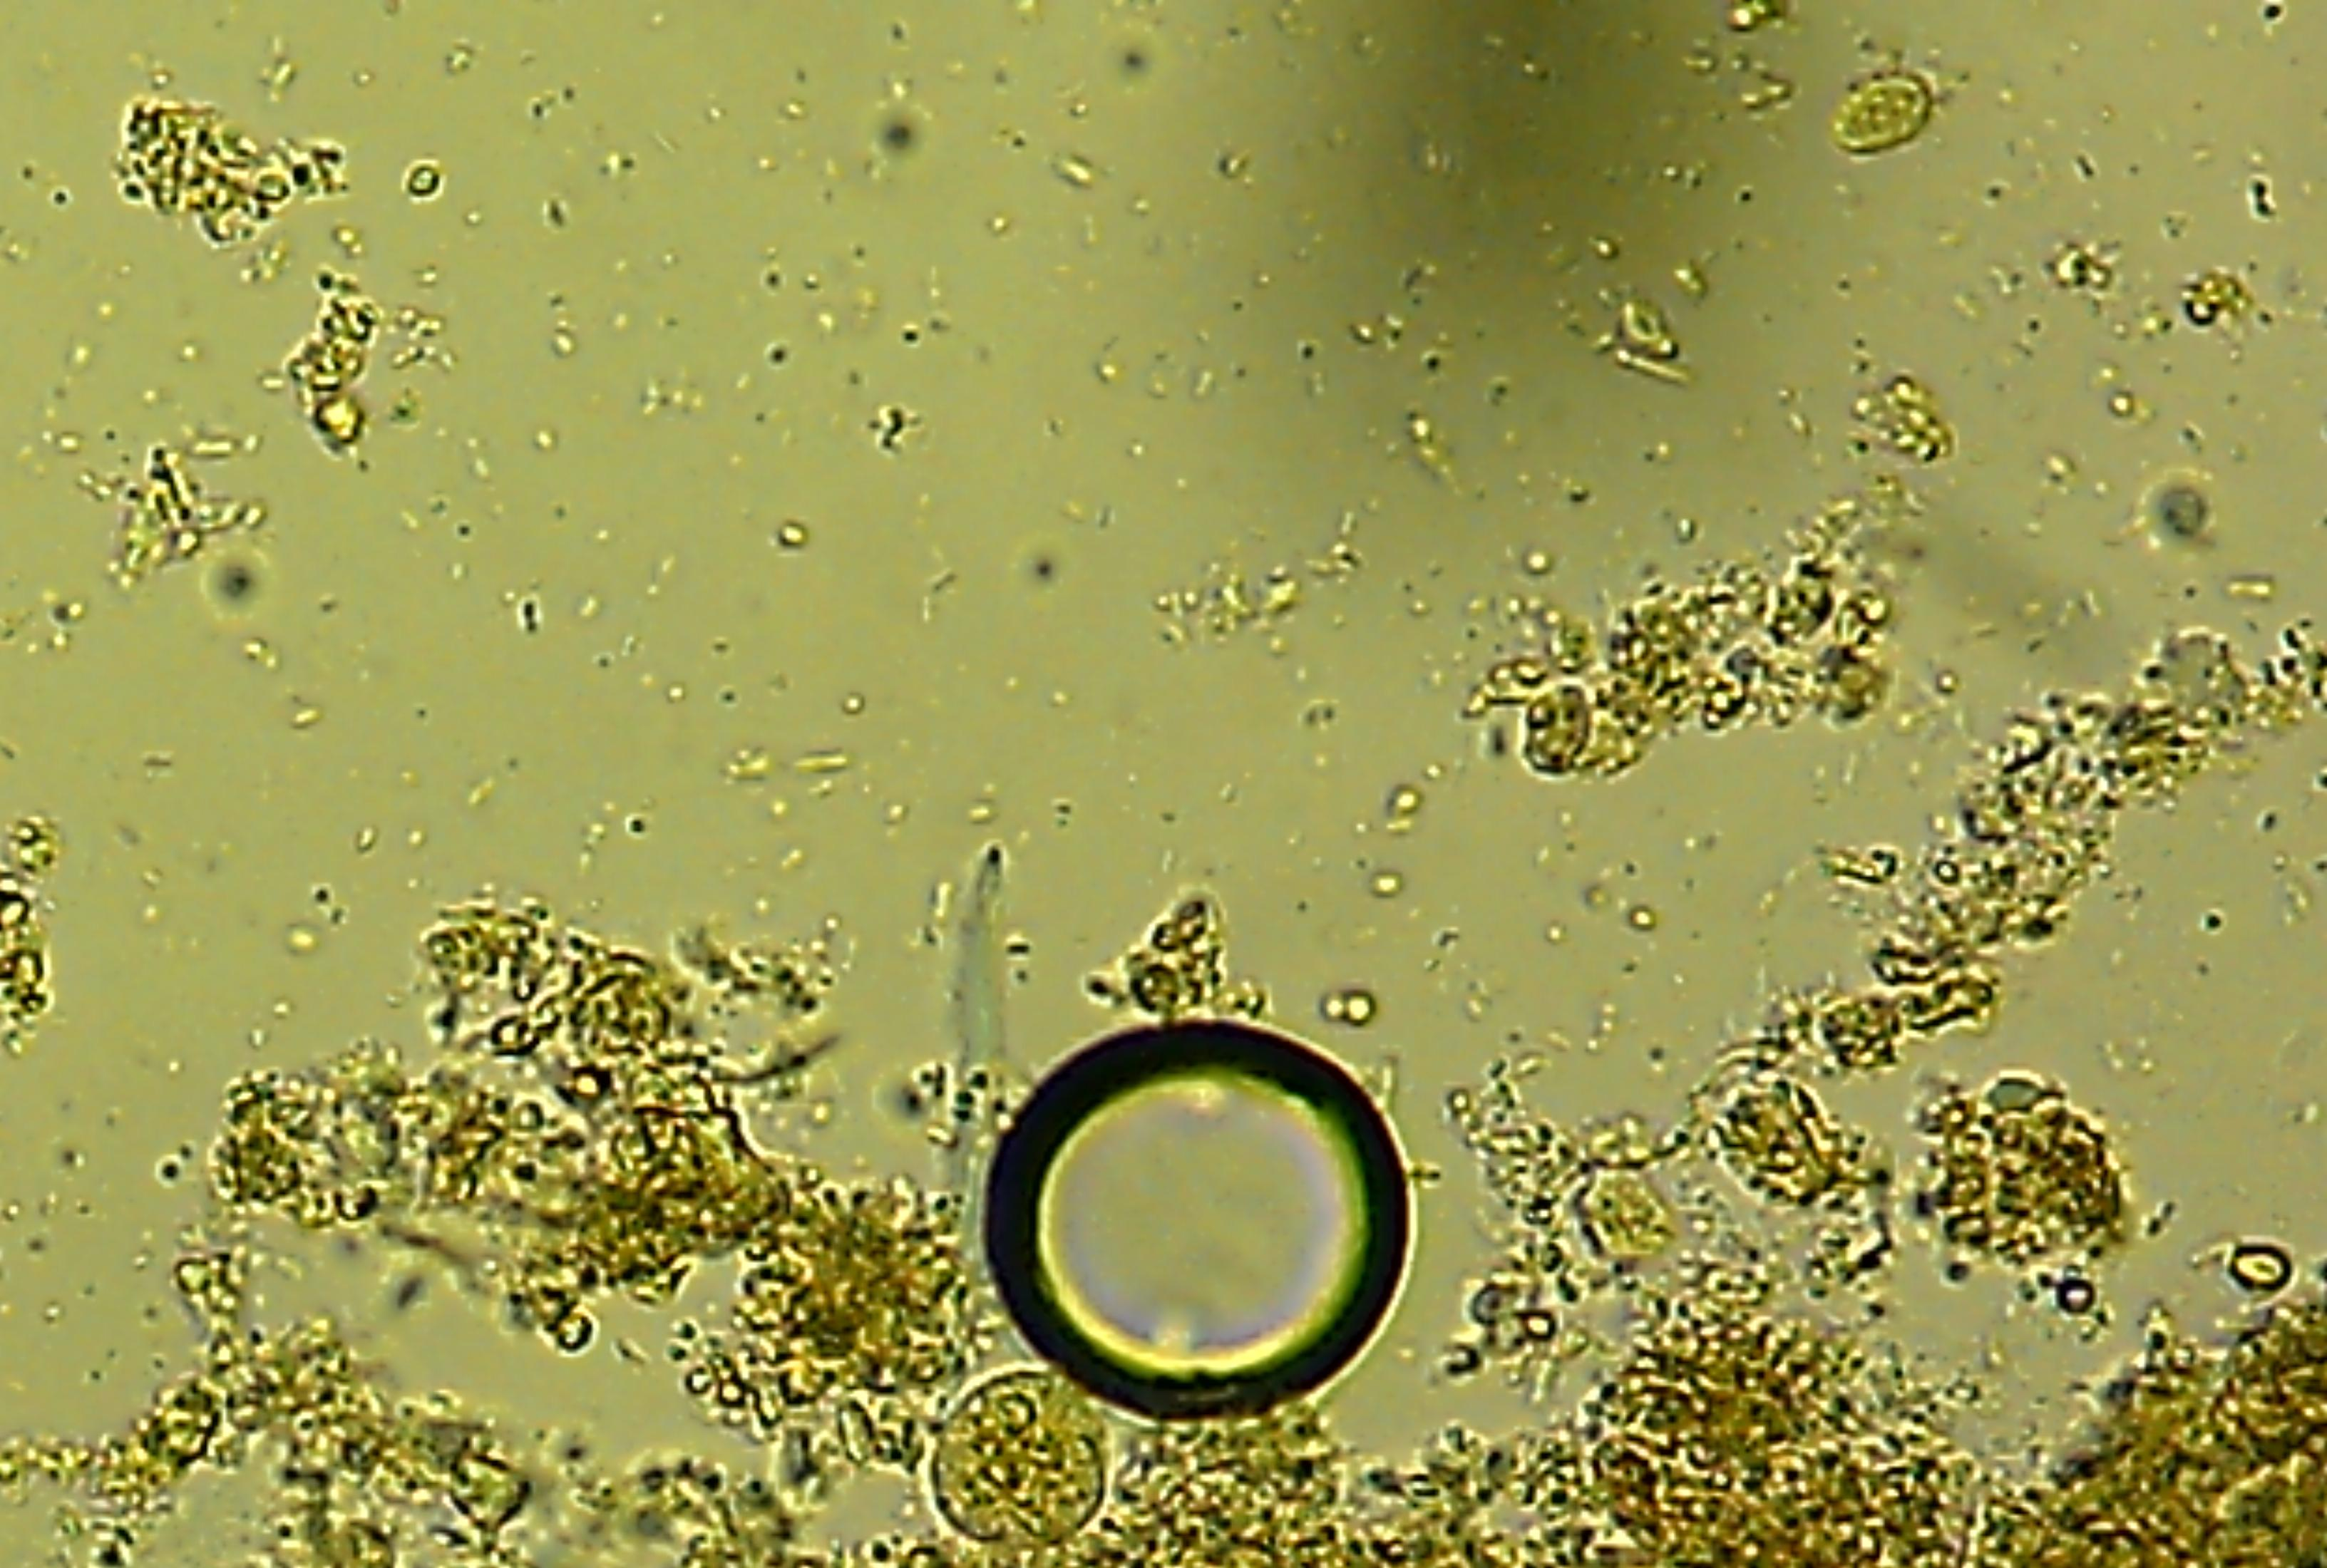Amebae: (919, 1353, 1122, 1556)
